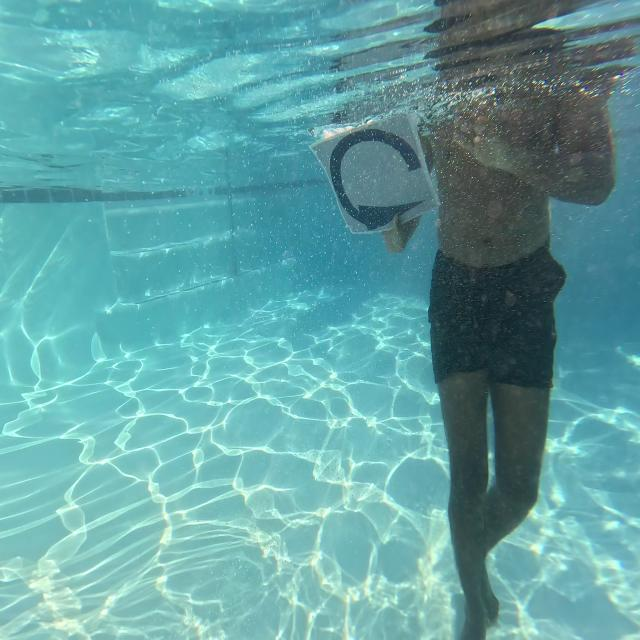blue_side: (319, 116, 421, 239)
